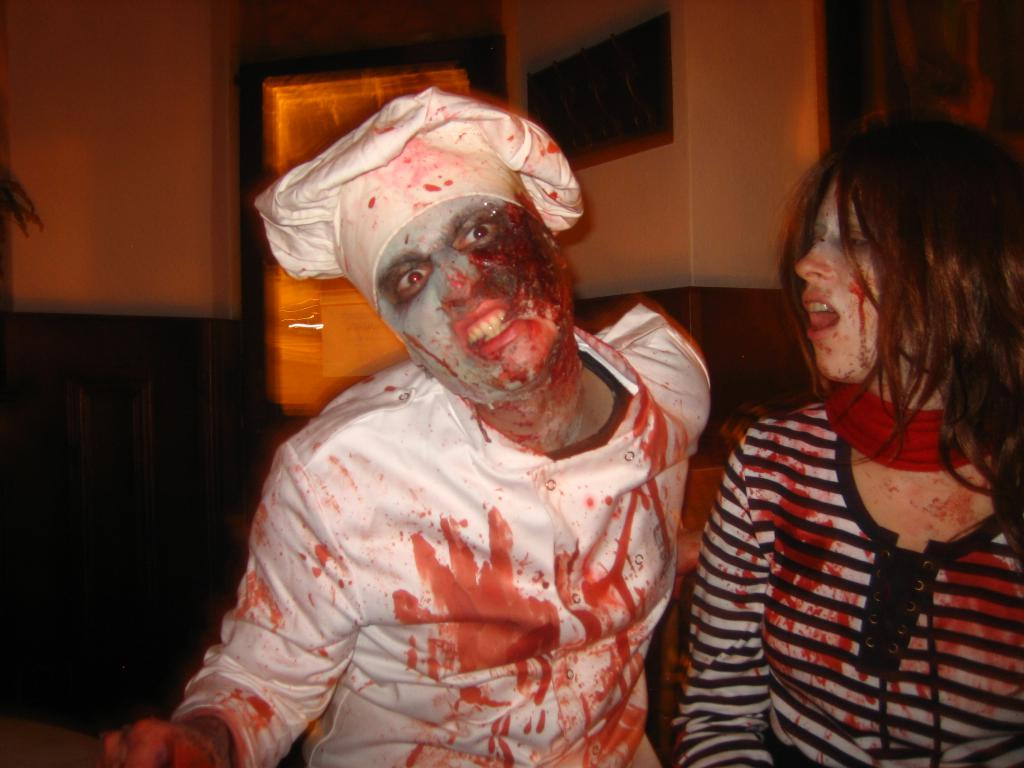Person: (96, 86, 709, 767)
